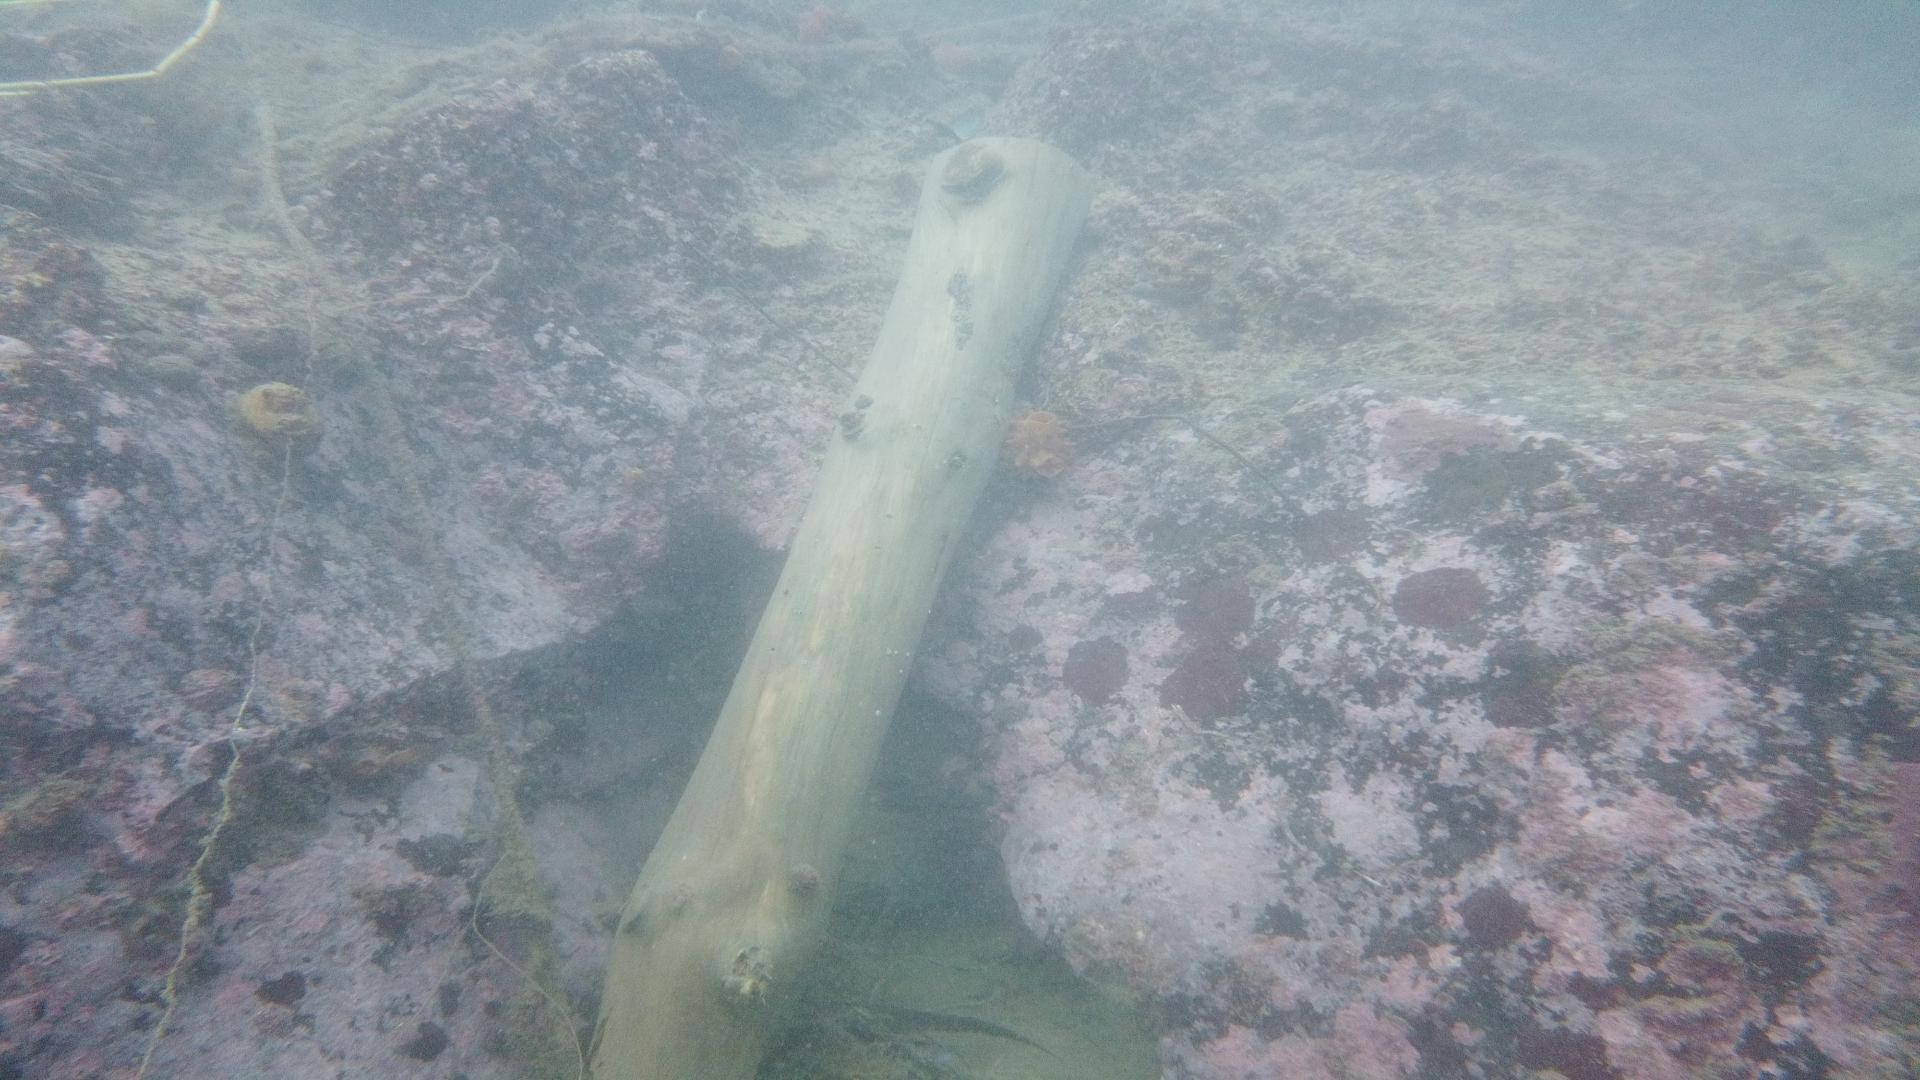rope: (251, 96, 546, 913)
wood: (579, 132, 1092, 1080)
